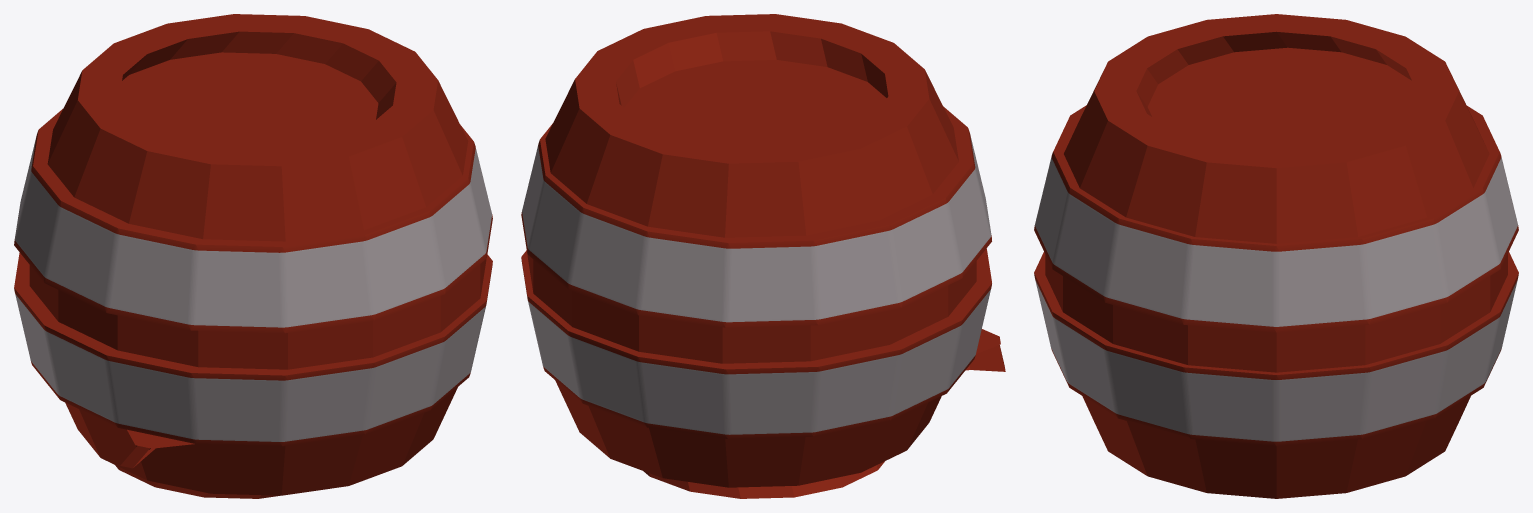
File: barril.obj
The picture shows the model from 3 angles, left to right: view 1: azimuth 30°, elevation 25°; view 2: azimuth 150°, elevation 25°; view 3: azimuth 270°, elevation 25°; orthographic projection. The views are drawn at different scales.
Parts seen in each view (by area): view 1: Cylinder.003; view 2: Cylinder.003; view 3: Cylinder.003.
Part boxes in pixels (x1,y1,x2,y2): Cylinder.003: (14, 14, 492, 498); Cylinder.003: (521, 14, 1005, 498); Cylinder.003: (1034, 14, 1518, 498).
Bounding box in the file's own units: 1.76 × 1.42 × 1.76.
